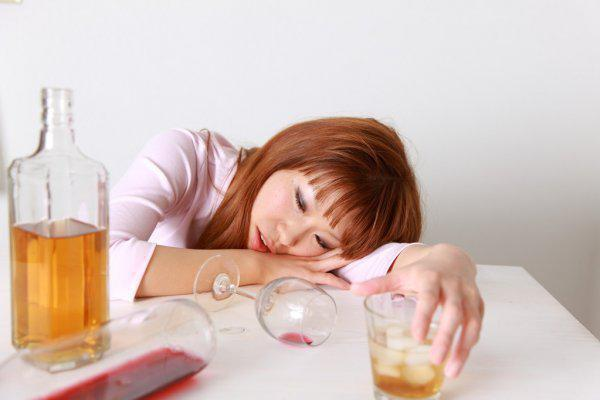Drunk: (255, 181, 347, 256)
